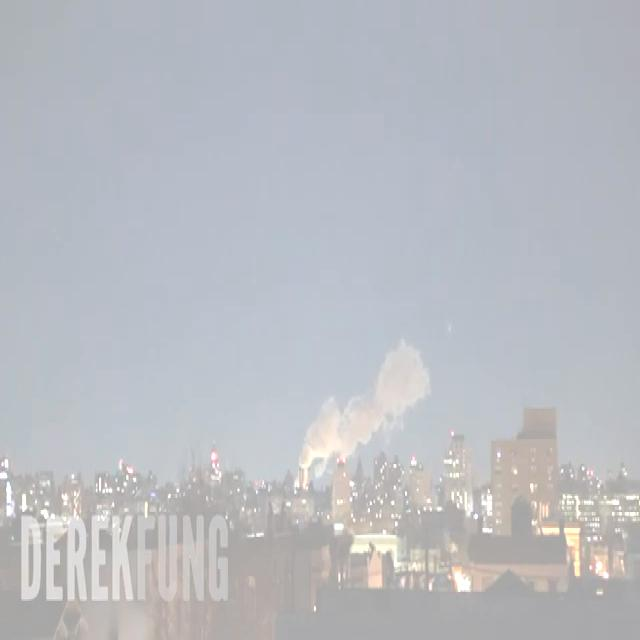smoke: (297, 338, 430, 523)
